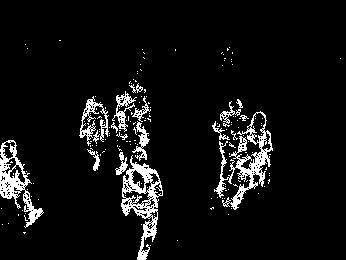person: (120, 147, 163, 257), (233, 111, 271, 212), (1, 137, 42, 229), (214, 97, 248, 204), (114, 93, 150, 179), (80, 97, 108, 172), (127, 77, 152, 147)
